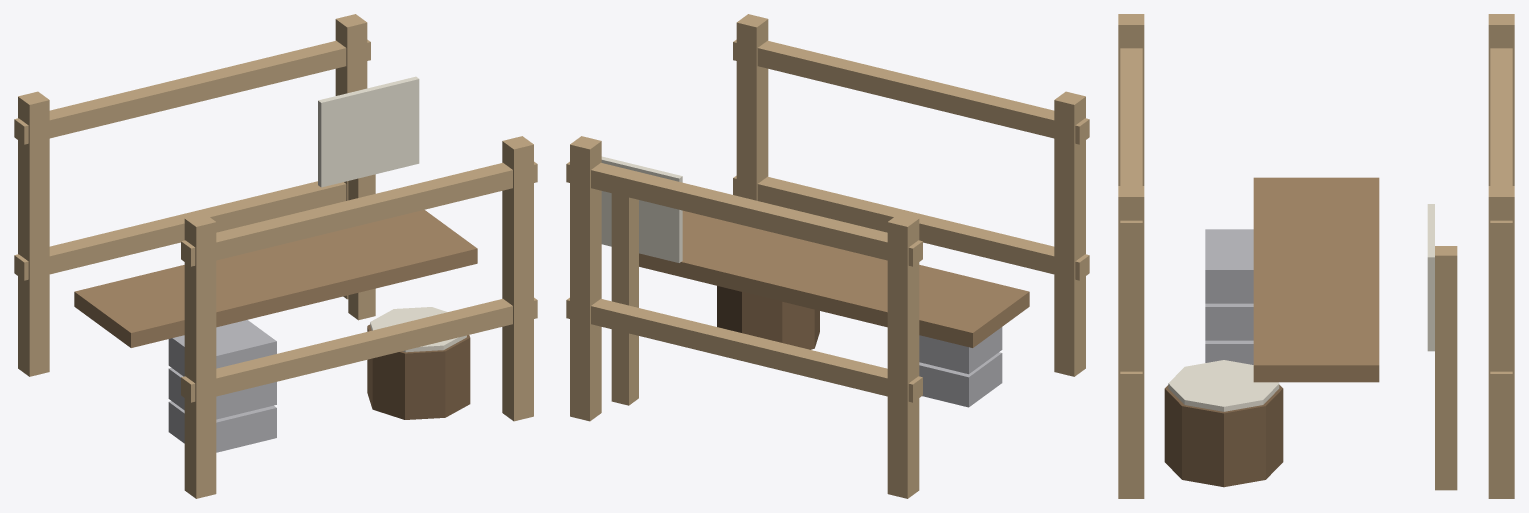
File: construction.glb
3 views of the same model, side by side, from view 1: azimuth 30°, elevation 25°; view 2: azimuth 150°, elevation 25°; view 3: azimuth 270°, elevation 25° (orthographic). The views are drawn at different scales.
Visible parts, largest first — view 1: ScaffoldPlank, Plan, ScaffoldRailB0.8, ScaffoldRailF0.8, ScaffoldRailF0.35, ScaffoldPost-0.55-0.5, ScaffoldPost-0.550.5, ScaffoldPost0.55-0.5, ScaffoldRailB0.35, MortarBucket, BuildBrick2, BuildBrick0 (+4 smaller); view 2: ScaffoldPlank, ScaffoldRailF0.8, ScaffoldRailB0.8, ScaffoldRailB0.35, ScaffoldPost-0.550.5, ScaffoldPost-0.55-0.5, ScaffoldPost0.550.5, ScaffoldRailF0.35, ScaffoldPost0.55-0.5, PlanPost, MortarBucket, Plan (+2 smaller); view 3: ScaffoldPlank, MortarBucket, ScaffoldPost0.55-0.5, ScaffoldPost0.550.5, PlanPost, MortarTop, ScaffoldRailF0.8, ScaffoldRailB0.8, BuildBrick2, BuildBrick1, ScaffoldPost-0.55-0.5, ScaffoldPost-0.550.5 (+4 smaller).
Boxes of the visible parts, x1,y1,x2,y2 form: ScaffoldPlank: (74, 210, 477, 347); Plan: (318, 76, 419, 187); ScaffoldRailB0.8: (14, 39, 370, 144); ScaffoldRailF0.8: (181, 161, 537, 266); ScaffoldRailF0.35: (181, 297, 537, 402); ScaffoldPost-0.55-0.5: (184, 213, 216, 498); ScaffoldPost-0.550.5: (18, 91, 49, 376); ScaffoldPost0.55-0.5: (502, 136, 533, 421); ScaffoldRailB0.35: (14, 181, 346, 280); MortarBucket: (367, 324, 470, 419); BuildBrick2: (168, 320, 276, 376); BuildBrick0: (168, 401, 276, 452); ScaffoldPlank: (639, 210, 1029, 347); ScaffoldRailF0.8: (733, 39, 1089, 144); ScaffoldRailB0.8: (566, 161, 922, 266); ScaffoldRailB0.35: (566, 297, 922, 402); ScaffoldPost-0.550.5: (887, 213, 919, 498); ScaffoldPost-0.55-0.5: (1054, 91, 1085, 376); ScaffoldPost0.550.5: (570, 136, 601, 421); ScaffoldRailF0.35: (733, 175, 1089, 280); ScaffoldPost0.55-0.5: (736, 14, 768, 200); PlanPost: (611, 193, 638, 405); MortarBucket: (717, 286, 819, 349); Plan: (601, 156, 682, 262); ScaffoldPlank: (1253, 177, 1379, 382); MortarBucket: (1164, 385, 1283, 487); ScaffoldPost0.55-0.5: (1118, 186, 1144, 498); ScaffoldPost0.550.5: (1488, 186, 1514, 498); PlanPost: (1435, 246, 1457, 490); MortarTop: (1168, 360, 1279, 411); ScaffoldRailF0.8: (1120, 48, 1142, 242); ScaffoldRailB0.8: (1490, 48, 1512, 242); BuildBrick2: (1205, 229, 1253, 303); BuildBrick1: (1205, 303, 1253, 340); ScaffoldPost-0.55-0.5: (1118, 14, 1144, 185); ScaffoldPost-0.550.5: (1488, 14, 1514, 185).
Bounding box in the file's own units: 1.27 × 0.9 × 1.07.
